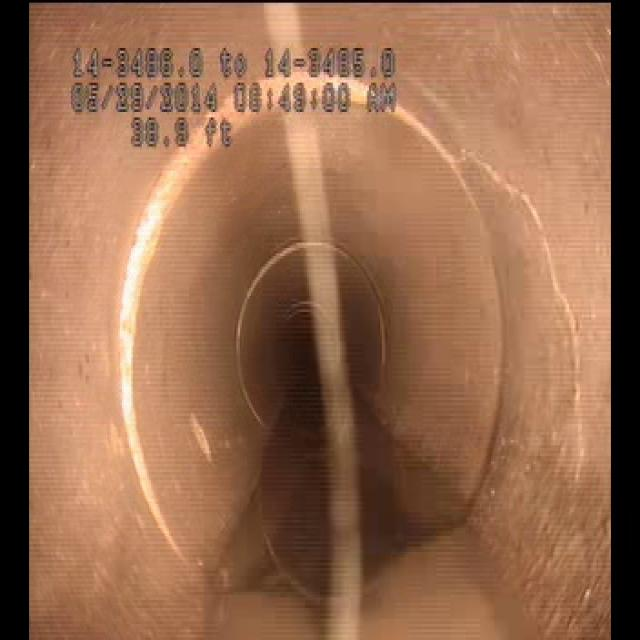Crack: (466, 134, 588, 376)
